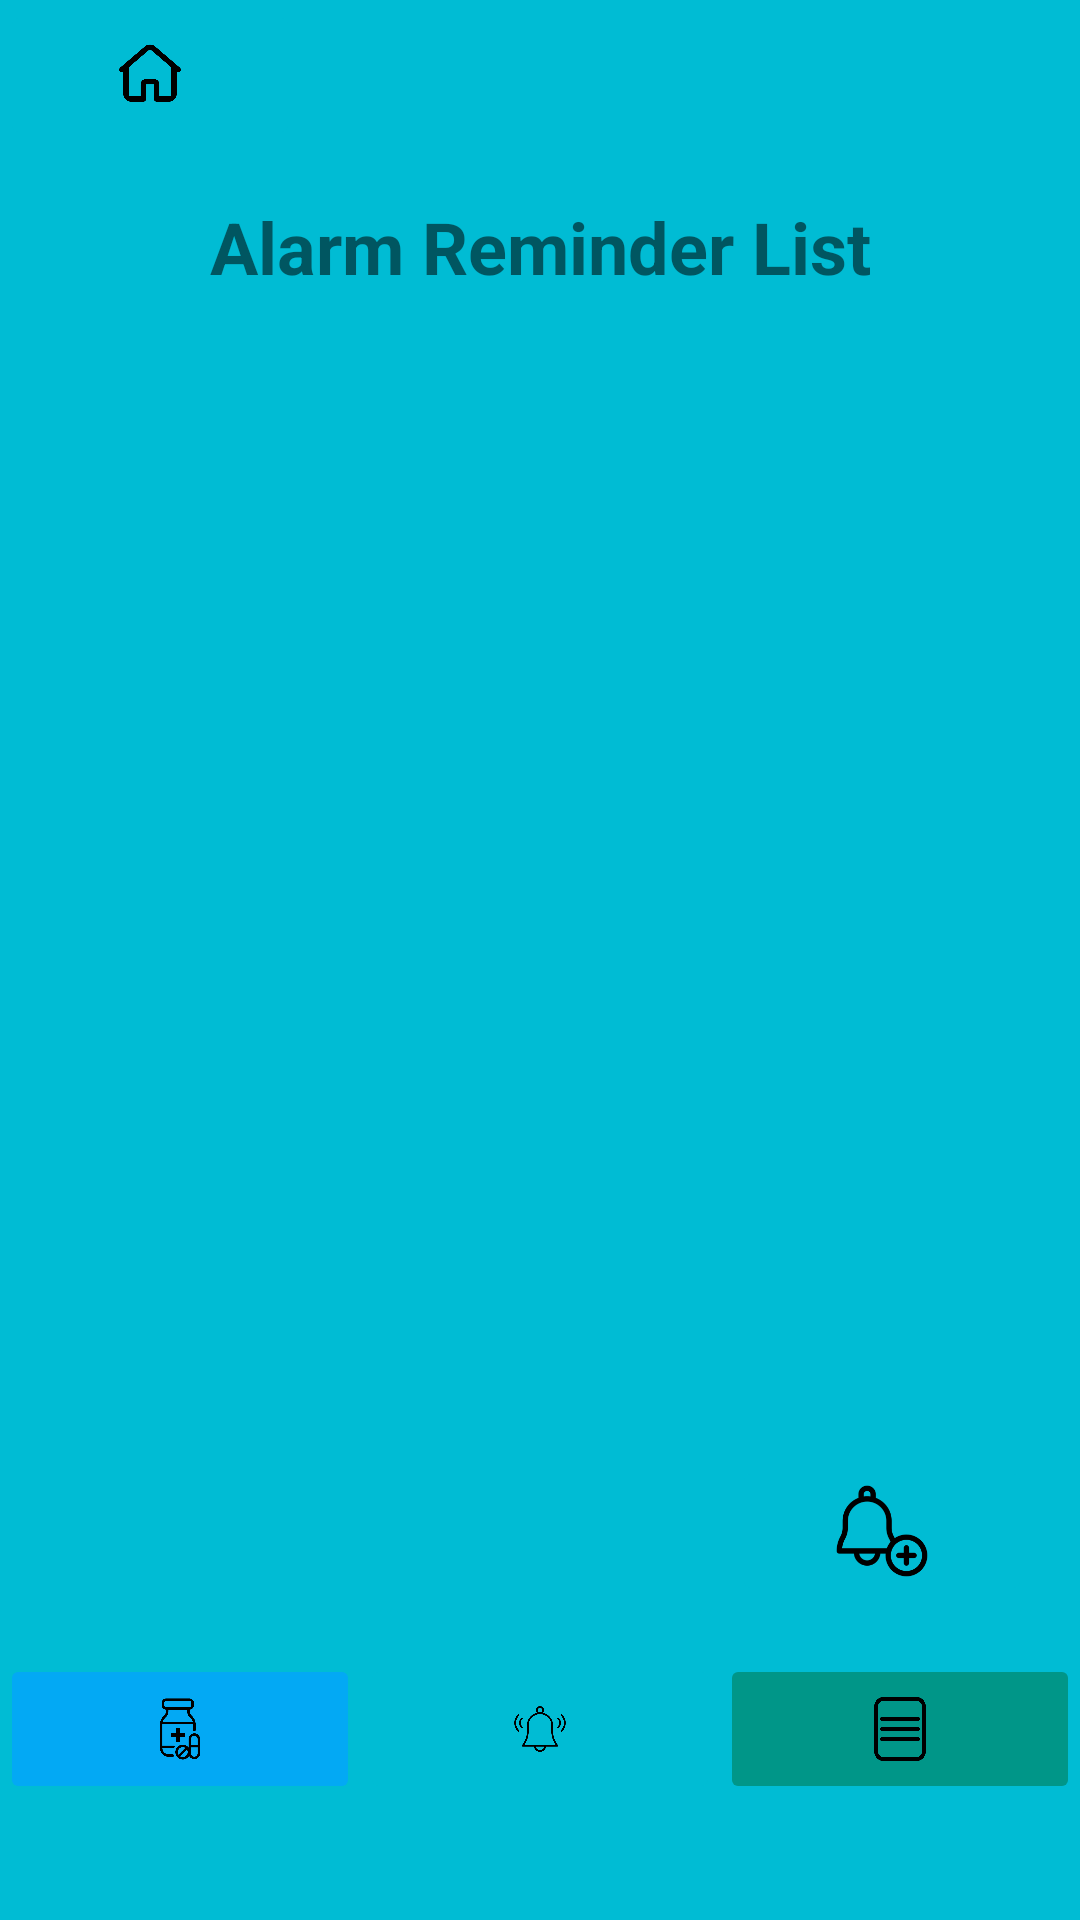

Named icons in this screenshot (1080 x 1920) and their bounding boxes, (x1, y1, x2, y2):
addalarm: (836, 1485, 928, 1577)
alarm: (514, 1706, 566, 1752)
home: (119, 45, 181, 102)
medicine: (12, 1672, 348, 1786)
report: (732, 1672, 1068, 1786)
